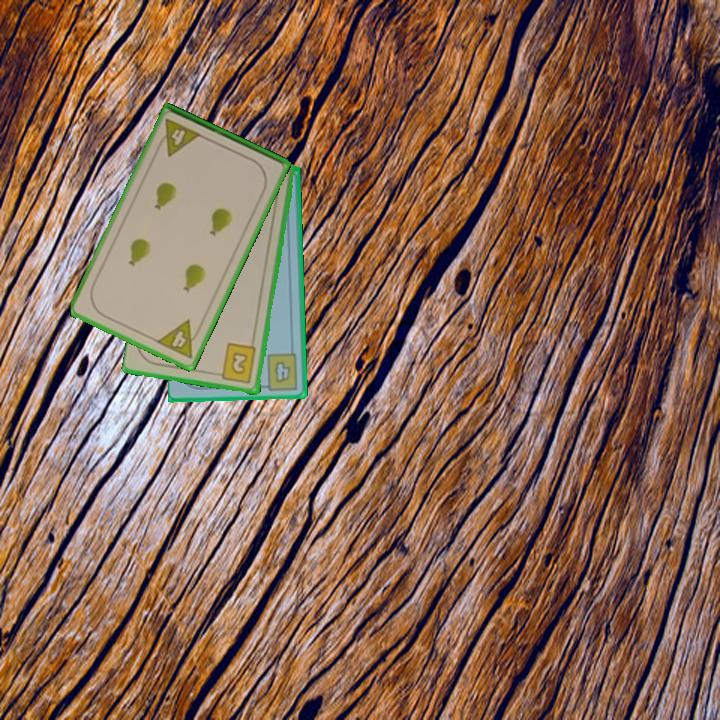2b: (212, 340, 259, 386)
4b: (258, 350, 301, 393)
4p: (153, 316, 205, 362), (153, 115, 204, 159)
